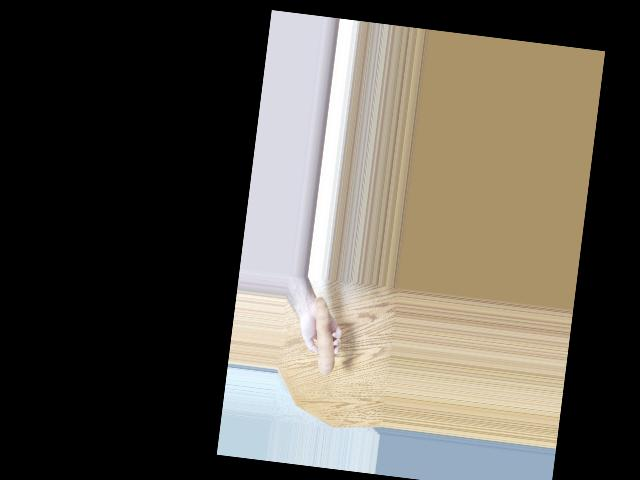sweet_potato: (303, 300, 345, 380)
